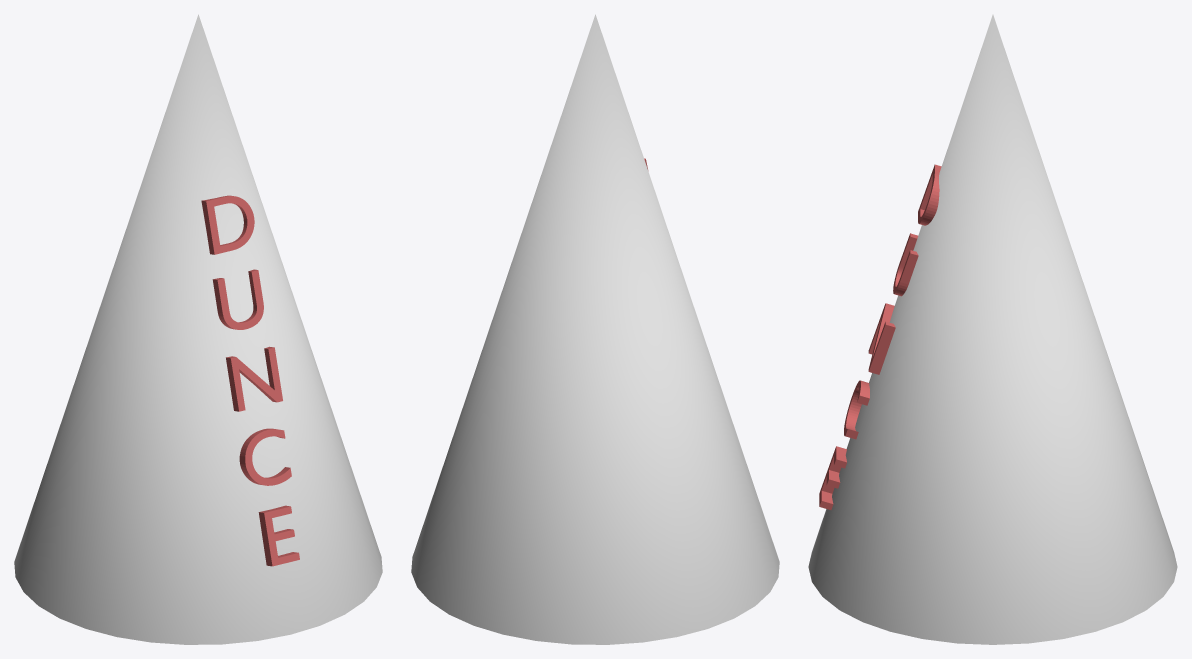
File: Dunce Cap.fbx
The picture shows the model from 3 angles, left to right: view 1: azimuth 30°, elevation 25°; view 2: azimuth 150°, elevation 25°; view 3: azimuth 270°, elevation 25°; orthographic projection.
Visible parts, largest first — view 1: Dunce Cap; view 2: Dunce Cap; view 3: Dunce Cap.
Boxes of the visible parts, <box> form: Dunce Cap: <box>14,14,382,644</box>; Dunce Cap: <box>411,14,779,644</box>; Dunce Cap: <box>808,14,1177,644</box>.
Size of the model in its own units: 121 by 200 by 121.
